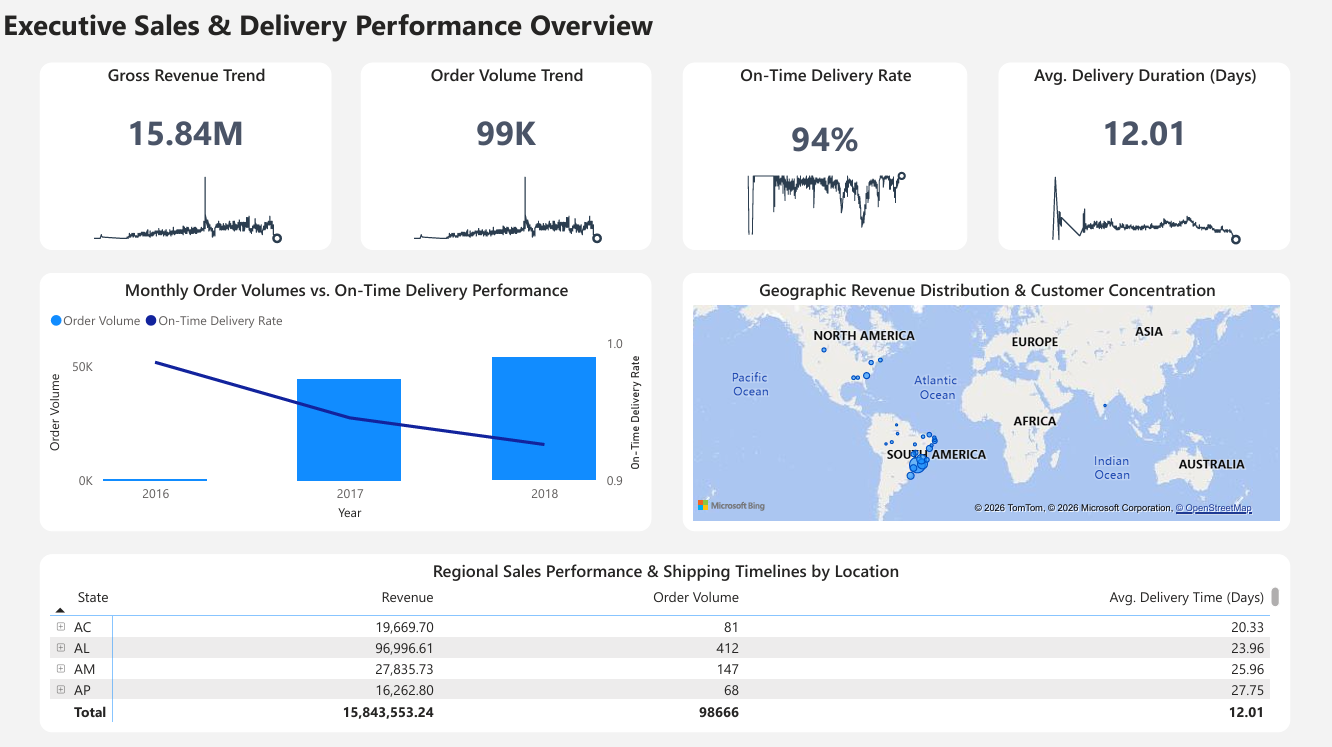

Layout of this report page (visuals, bound fields, positions):
{"tool":"powerbi","page":{"name":"Page 1 Executive Overview","canvas":[1280,720],"ordinal":0},"visuals":[{"type":"cardVisual","title":"Order Volume Trend","fields":{"Data":["_Measures Bank.total_order_volume","_Measures Bank.sparkline_total_order_volume"]},"box":[348.3,60,278.3,180],"z":0},{"type":"cardVisual","title":"Avg. Delivery Duration (Days)","fields":{"Data":["_Measures Bank.average_delivery_time_days","_Measures Bank.sparkline_average_delivery_time_days"]},"box":[960,60,280,180],"z":1000},{"type":"textbox","box":[0,0,1279.4,48.7],"z":2000},{"type":"cardVisual","title":"On-Time Delivery Rate","fields":{"Data":["_Measures Bank.on_time_delivery_rate","_Measures Bank.sparkline_on_time_delivery_rate"]},"box":[656.7,60,273.3,180],"z":3000},{"type":"cardVisual","title":"Gross Revenue Trend","fields":{"Data":["_Measures Bank.total_revenue","_Measures Bank.sparkline_total_revenue"]},"box":[40,60,280,180],"z":4000},{"type":"lineStackedColumnComboChart","title":"Monthly Order Volumes vs. On-Time Delivery Performance","fields":{"Category":["analytics vw_executive_overview.date.Variation.Date Hierarchy.Year","analytics vw_executive_overview.date.Variation.Date Hierarchy.Month"],"Y":["_Measures Bank.total_order_volume"],"Y2":["_Measures Bank.on_time_delivery_rate"]},"box":[40,261.7,586.7,248.3],"z":5000},{"type":"map","title":"Geographic Revenue Distribution & Customer Concentration","fields":{"Category":["analytics vw_executive_overview.customer_state"],"Size":["_Measures Bank.total_revenue"]},"box":[656.7,261.7,583.3,248.3],"z":6000},{"type":"pivotTable","title":"Regional Sales Performance & Shipping Timelines by Location","fields":{"Rows":["analytics vw_executive_overview.customer_state","analytics vw_executive_overview.customer_city"],"Values":["_Measures Bank.total_revenue","_Measures Bank.total_order_volume","_Measures Bank.average_delivery_time_days"]},"box":[40,531.7,1200,171.7],"z":7000}]}

Visuals, with their boxes in screenshot pixels (x1, y1, x2, y2), scaled from the page's 1280x720 canvas onto the 1332x747 screenshot:
"Order Volume Trend" cardVisual: x1=362 y1=62 x2=652 y2=249
"Avg. Delivery Duration (Days)" cardVisual: x1=999 y1=62 x2=1290 y2=249
textbox: x1=0 y1=0 x2=1331 y2=51
"On-Time Delivery Rate" cardVisual: x1=683 y1=62 x2=968 y2=249
"Gross Revenue Trend" cardVisual: x1=42 y1=62 x2=333 y2=249
"Monthly Order Volumes vs. On-Time Delivery Performance" lineStackedColumnComboChart: x1=42 y1=272 x2=652 y2=529
"Geographic Revenue Distribution & Customer Concentration" map: x1=683 y1=272 x2=1290 y2=529
"Regional Sales Performance & Shipping Timelines by Location" pivotTable: x1=42 y1=552 x2=1290 y2=730
